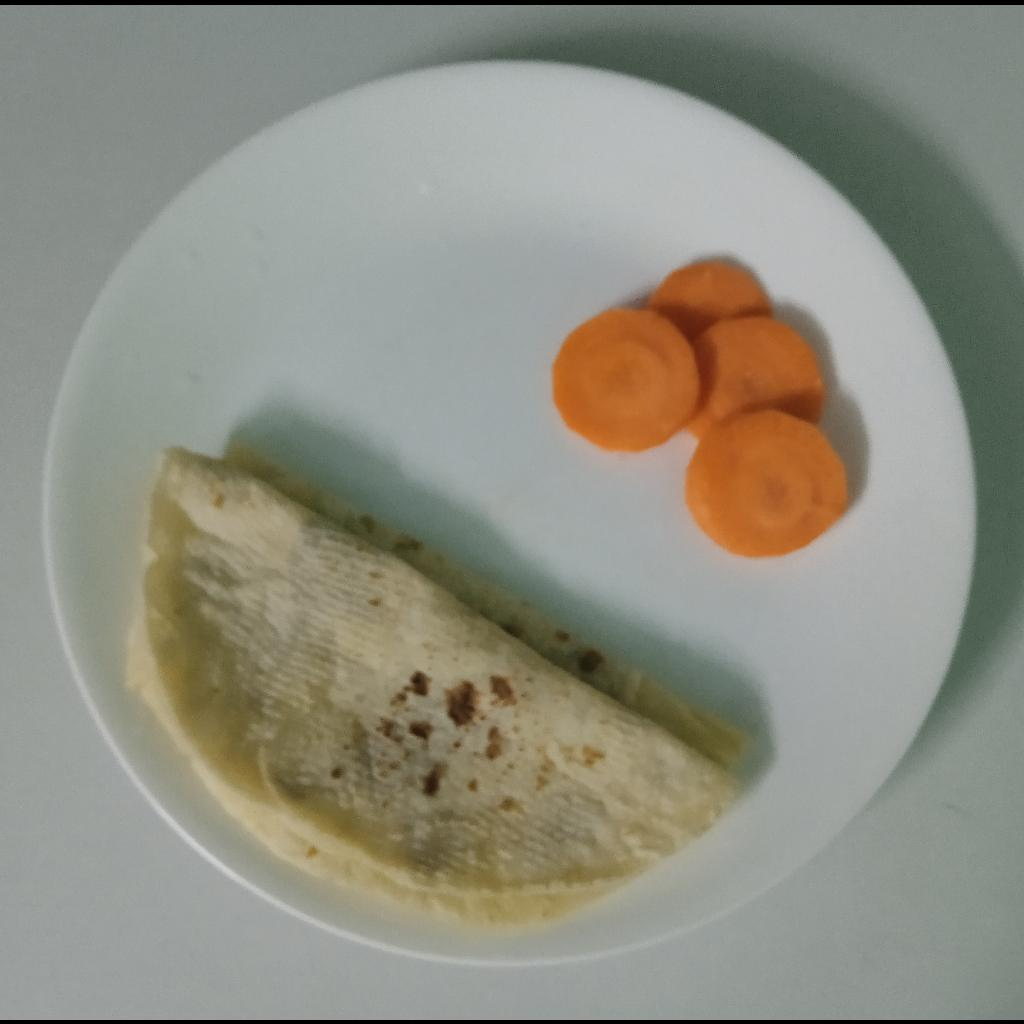carrot: (550, 260, 852, 560)
ruti: (119, 438, 753, 927)
